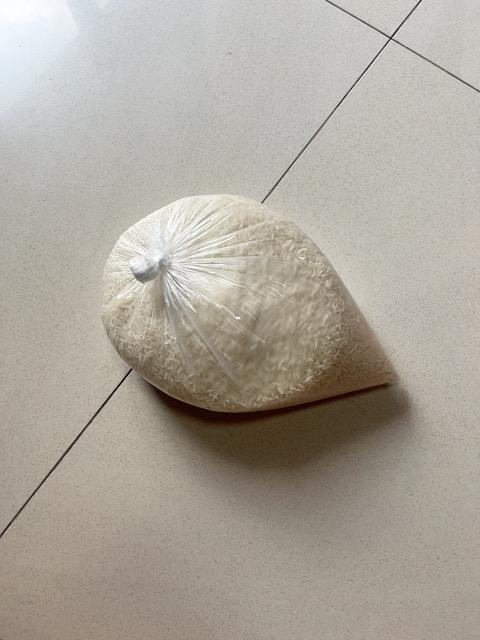rice: (102, 192, 402, 418)
